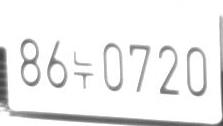0: (185, 46, 207, 97), (102, 43, 123, 91)
2: (158, 45, 180, 94)
6: (46, 40, 67, 89)
7: (129, 44, 150, 91)
8: (19, 37, 41, 87)
누: (73, 51, 93, 88)
